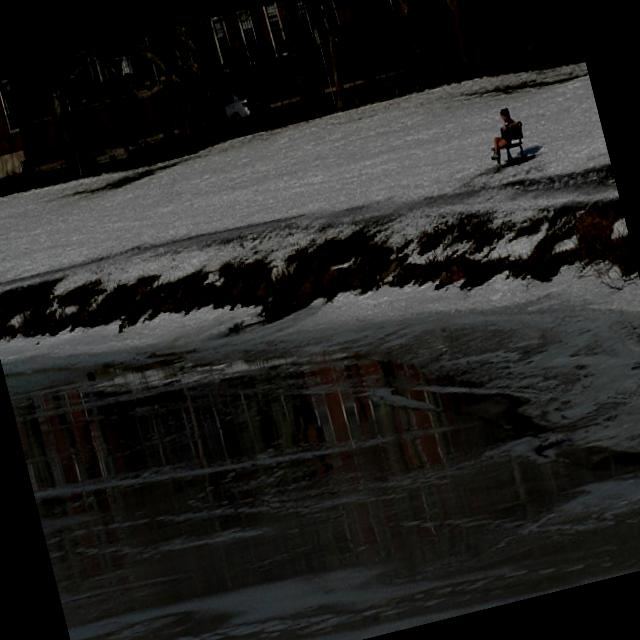Vehicle: (222, 88, 254, 130)
